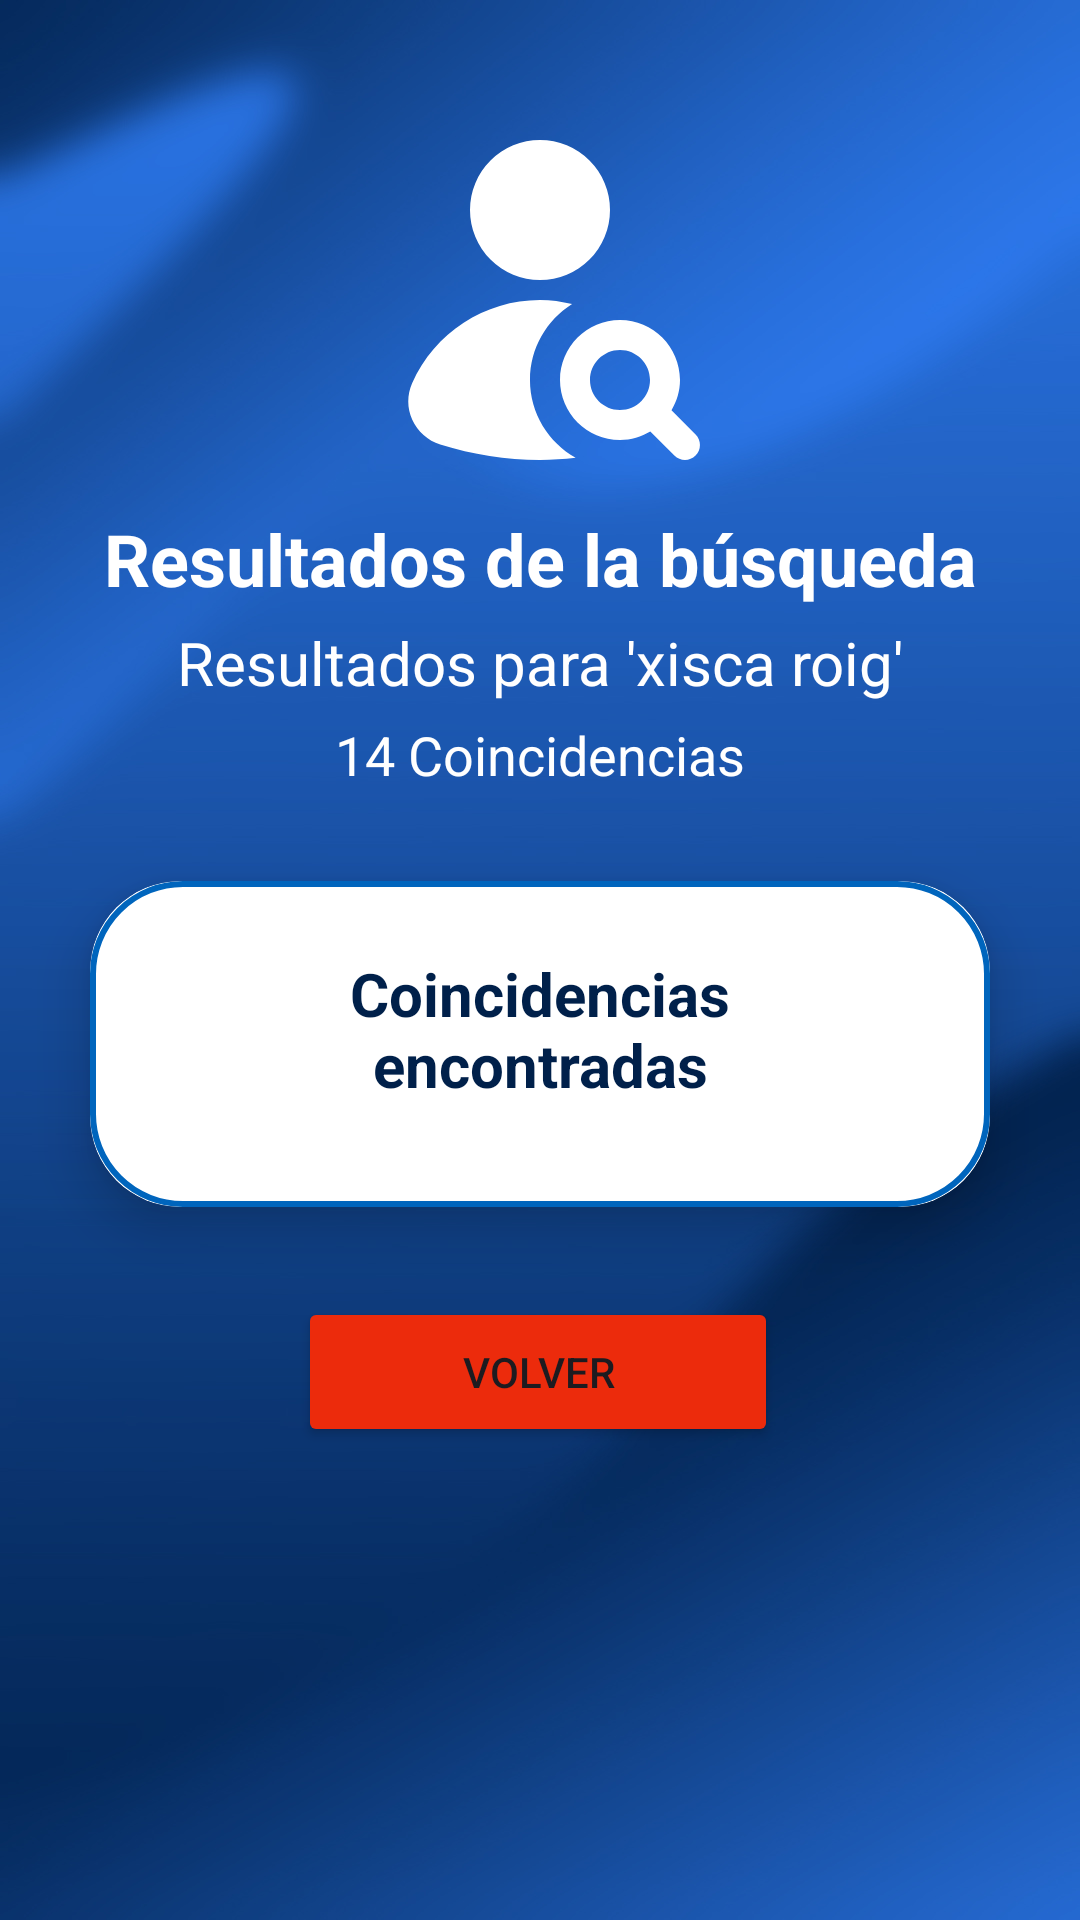

Where icons sit on this 1080px x 1920px app screen, as box=[x1, y1, x2, y2]:
user search: box=[360, 120, 720, 467]
